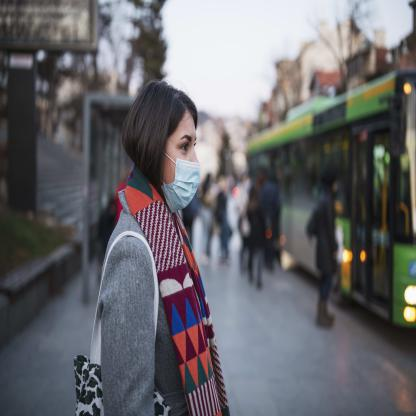Wearing_Mask: (147, 98, 201, 216)
